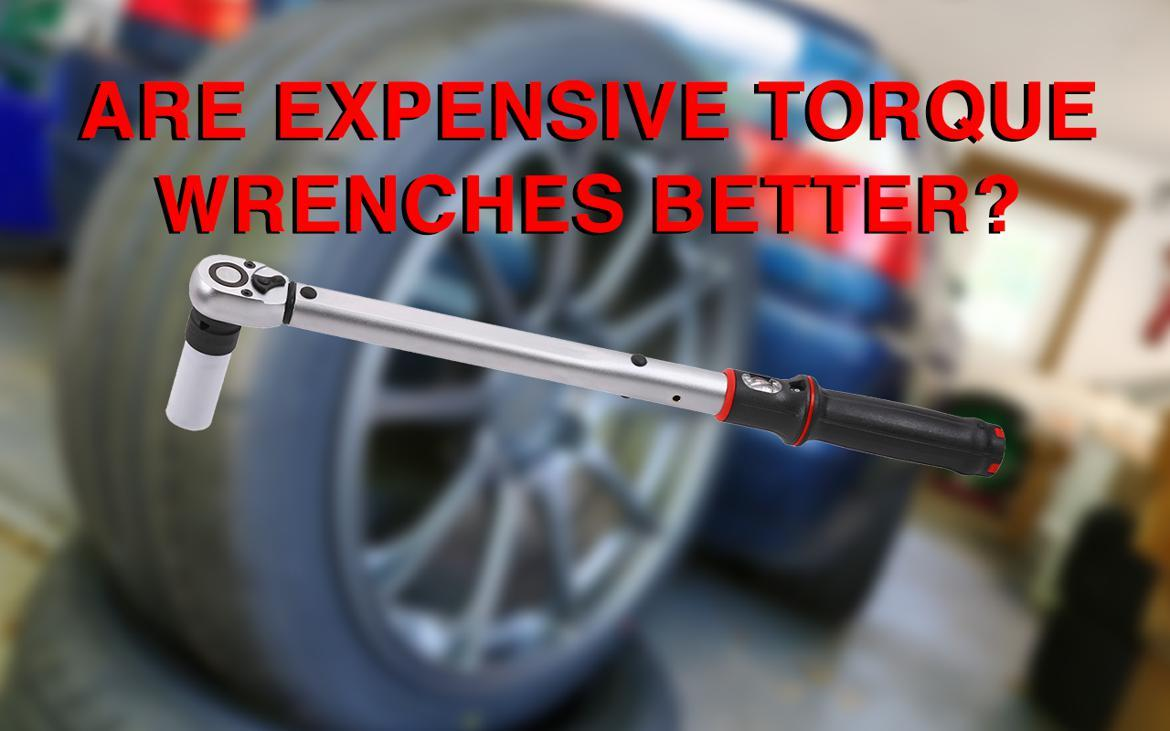Tool: (190, 254, 299, 330)
